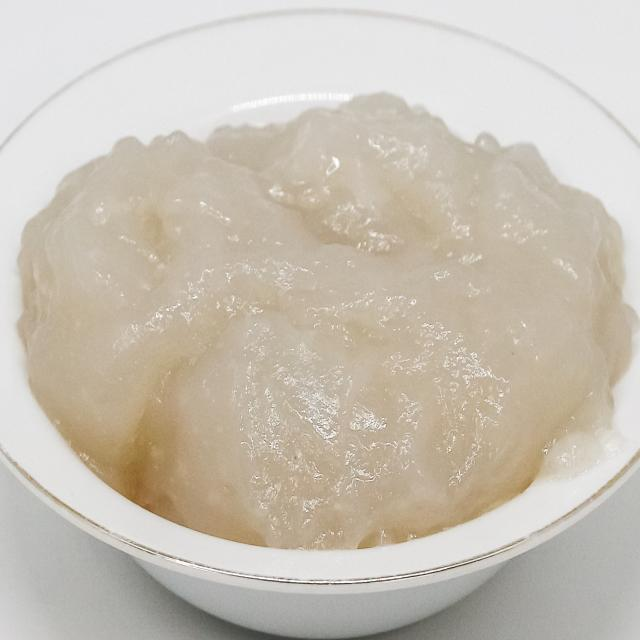Papeda: (16, 86, 623, 566)
